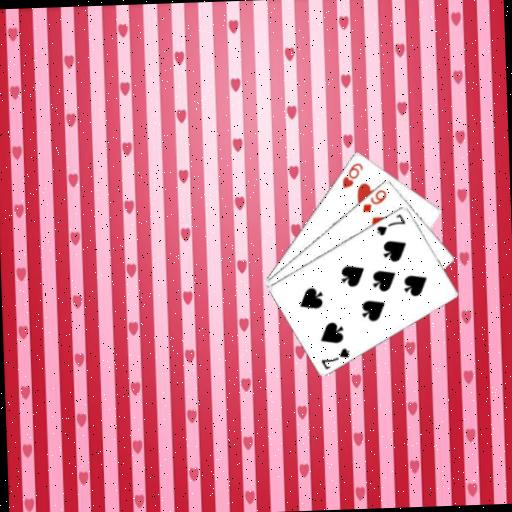6H: (338, 158, 365, 189)
7S: (373, 210, 407, 238), (317, 344, 351, 371)
9D: (358, 186, 388, 214)
